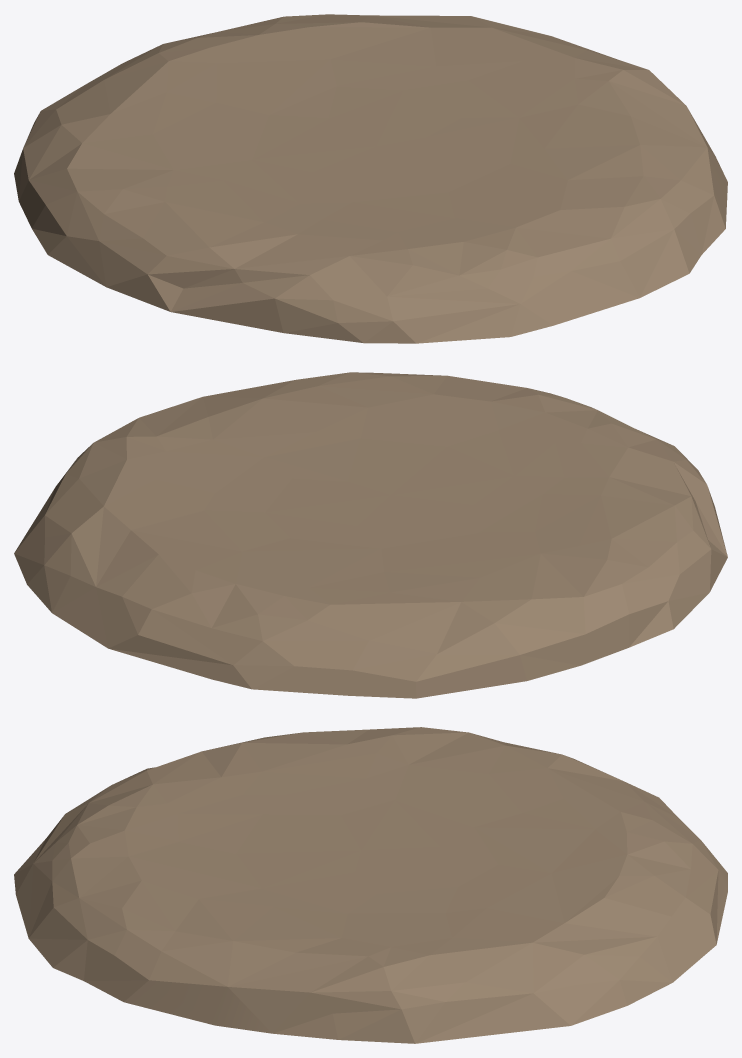
File: SM_Env_Ground_Hill_Flat_02.fbx
The picture shows the model from 3 angles, top to bottom: view 1: azimuth 30°, elevation 25°; view 2: azimuth 150°, elevation 25°; view 3: azimuth 270°, elevation 25°; orthographic projection. The views are drawn at different scales.
Visible parts, largest first — view 1: SM_Env_Ground_Hill_Flat_02; view 2: SM_Env_Ground_Hill_Flat_02; view 3: SM_Env_Ground_Hill_Flat_02.
Part boxes in pixels (x1=…): SM_Env_Ground_Hill_Flat_02: x1=14, y1=14, x2=727, y2=343; SM_Env_Ground_Hill_Flat_02: x1=14, y1=372, x2=727, y2=698; SM_Env_Ground_Hill_Flat_02: x1=14, y1=727, x2=727, y2=1043.
Bounding box in the file's own units: 1326 × 107 × 1365.
